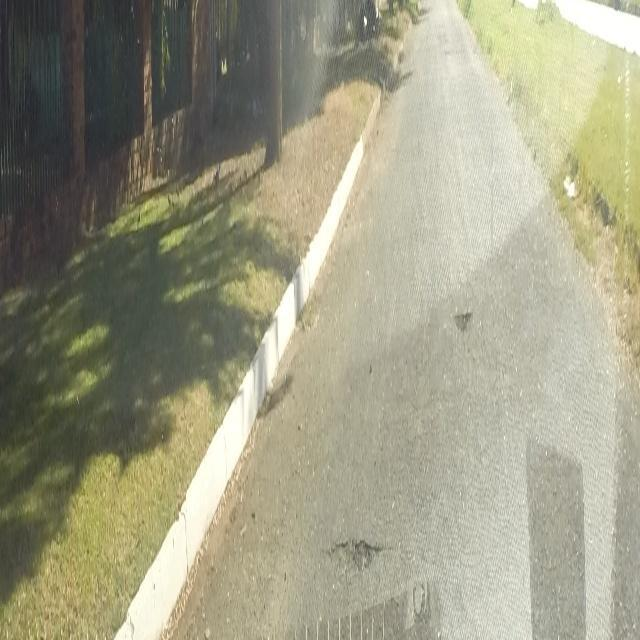pothole: (324, 526, 382, 587), (452, 303, 473, 332)
